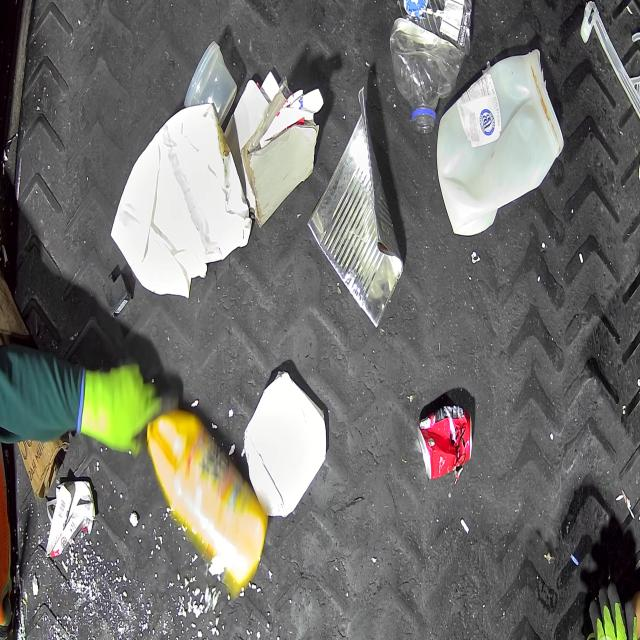can: (417, 405, 473, 482)
milk_jug: (436, 48, 564, 236)
non_white_jug: (146, 415, 266, 591)
plastic_bottle: (389, 0, 474, 133)
